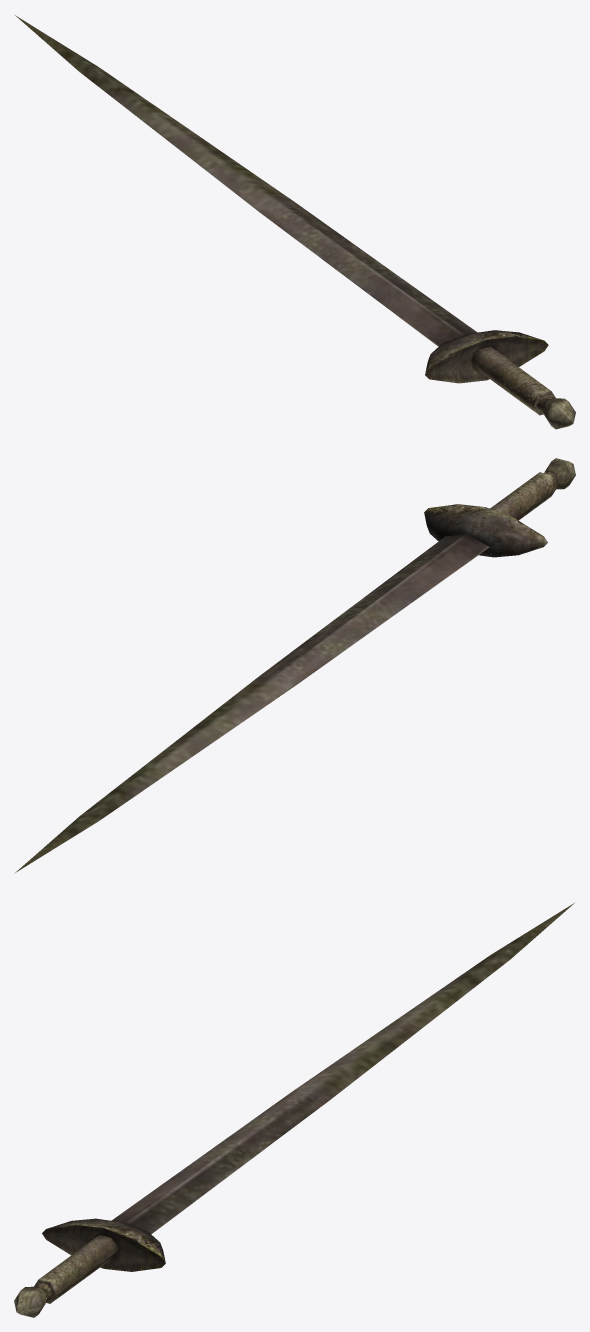
The model's file is pir_m_hnd_swd_davyJones_d.fbx.
3 views of the same model, one above another, from view 1: azimuth 30°, elevation 25°; view 2: azimuth 150°, elevation 25°; view 3: azimuth 330°, elevation 25° (orthographic).
Parts seen in each view (by area): view 1: lod_high; view 2: lod_high; view 3: lod_high.
Boxes of the visible parts, bbox=[...] form: lod_high: bbox=[15, 15, 575, 429]; lod_high: bbox=[14, 458, 575, 873]; lod_high: bbox=[14, 903, 574, 1317].
Bounding box in the file's own units: 47.35 × 14.91 × 370.
1 material, 1 textured.
